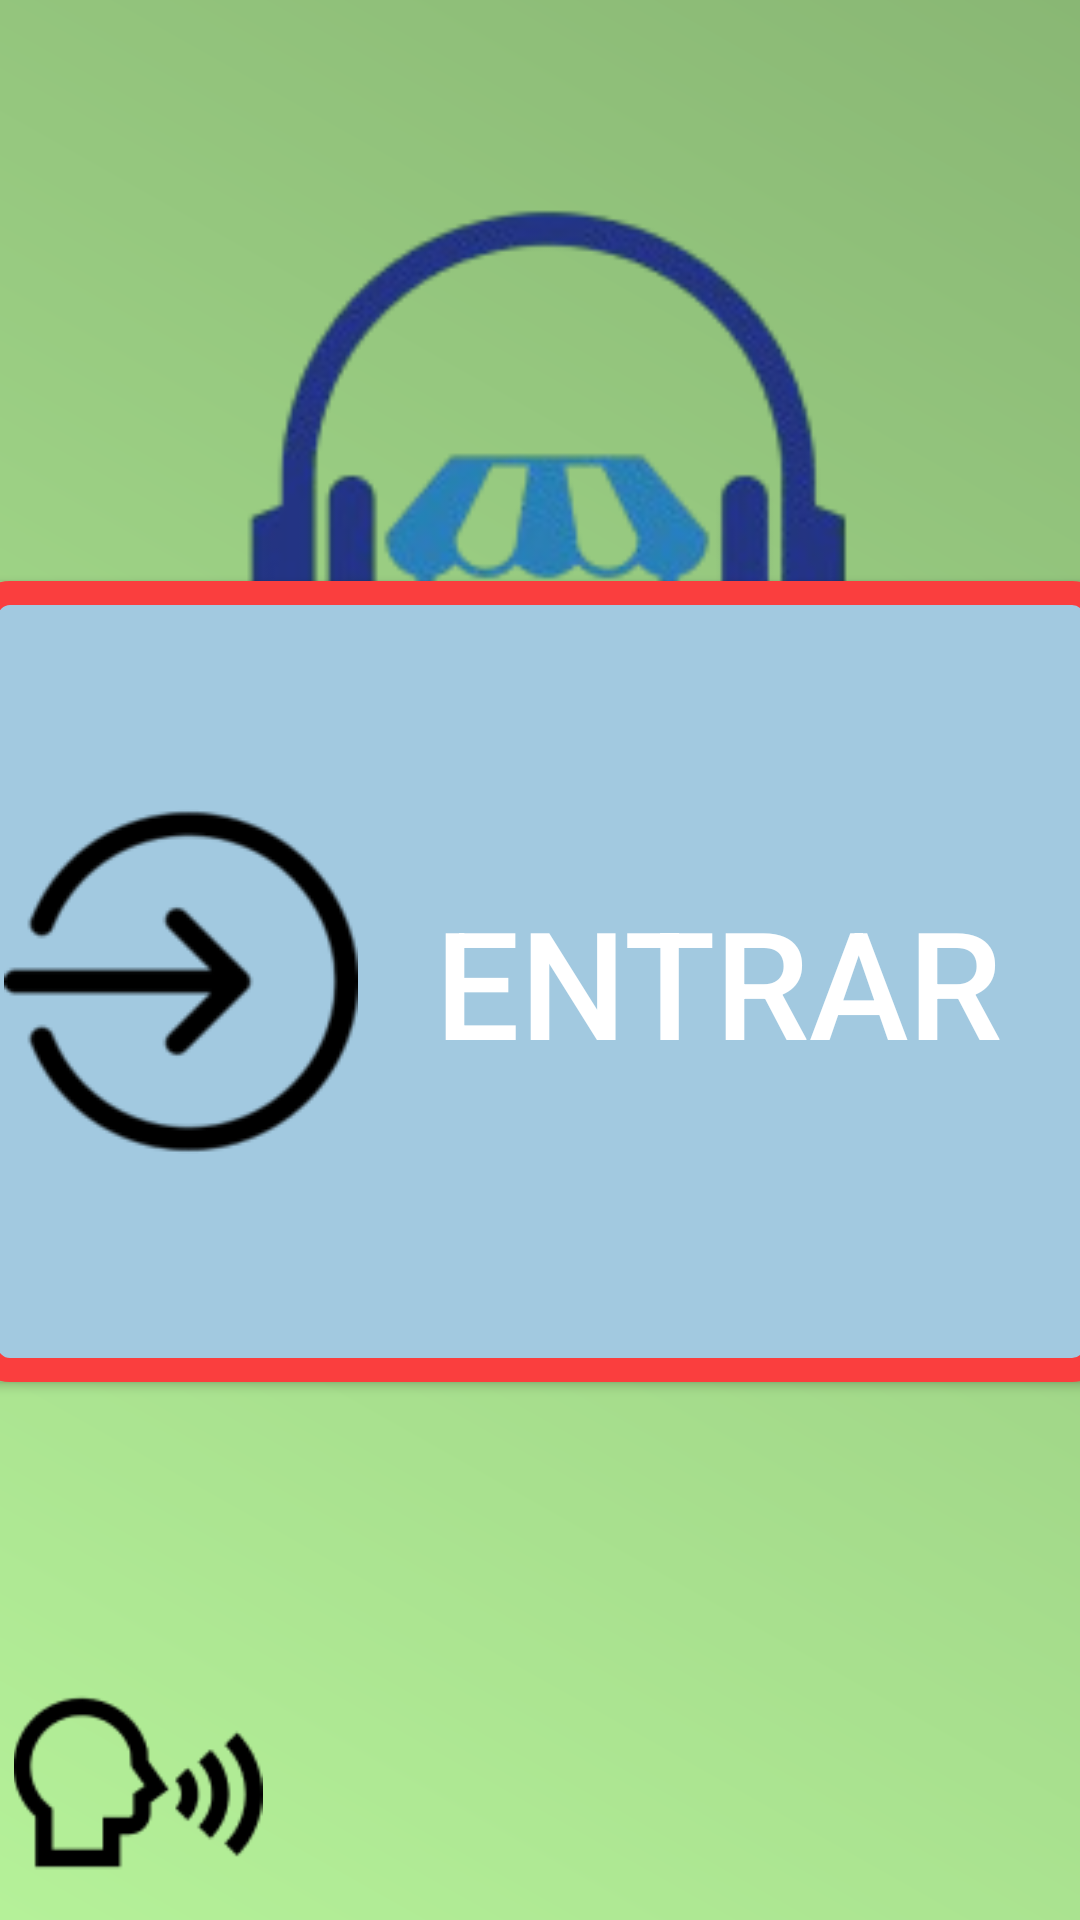

Icon click points for this 1080w x 1920h phone screenshot, format (x=x, y=y):
pessoa: (x=138, y=1782)
